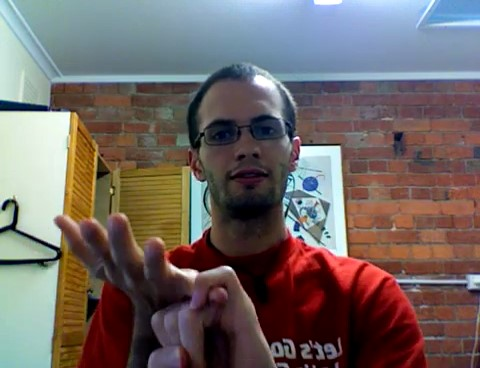S: (47, 210, 271, 368)
